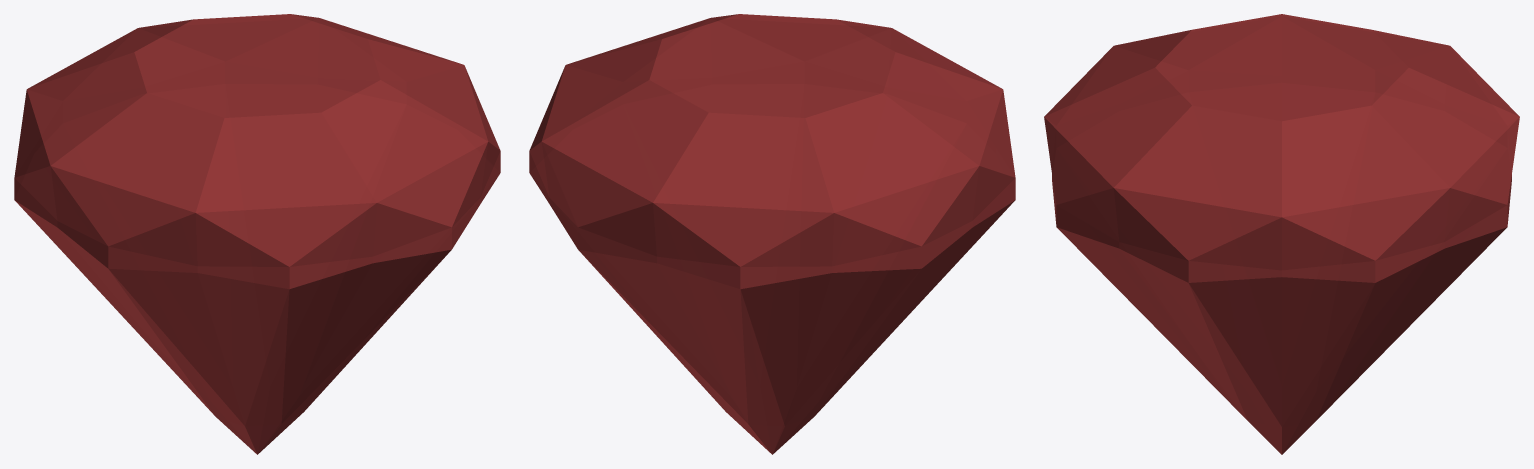
File: red_Diamond.fbx
3 views of the same model, side by side, from view 1: azimuth 30°, elevation 25°; view 2: azimuth 150°, elevation 25°; view 3: azimuth 270°, elevation 25° (orthographic).
Parts seen in each view (by area): view 1: red_Diamond; view 2: red_Diamond; view 3: red_Diamond.
Boxes of the visible parts, x1,y1,x2,y2 form: red_Diamond: [14, 14, 500, 454]; red_Diamond: [529, 14, 1015, 454]; red_Diamond: [1044, 14, 1519, 454].
Size of the model in its own units: 18.01 by 16.17 by 18.01.
